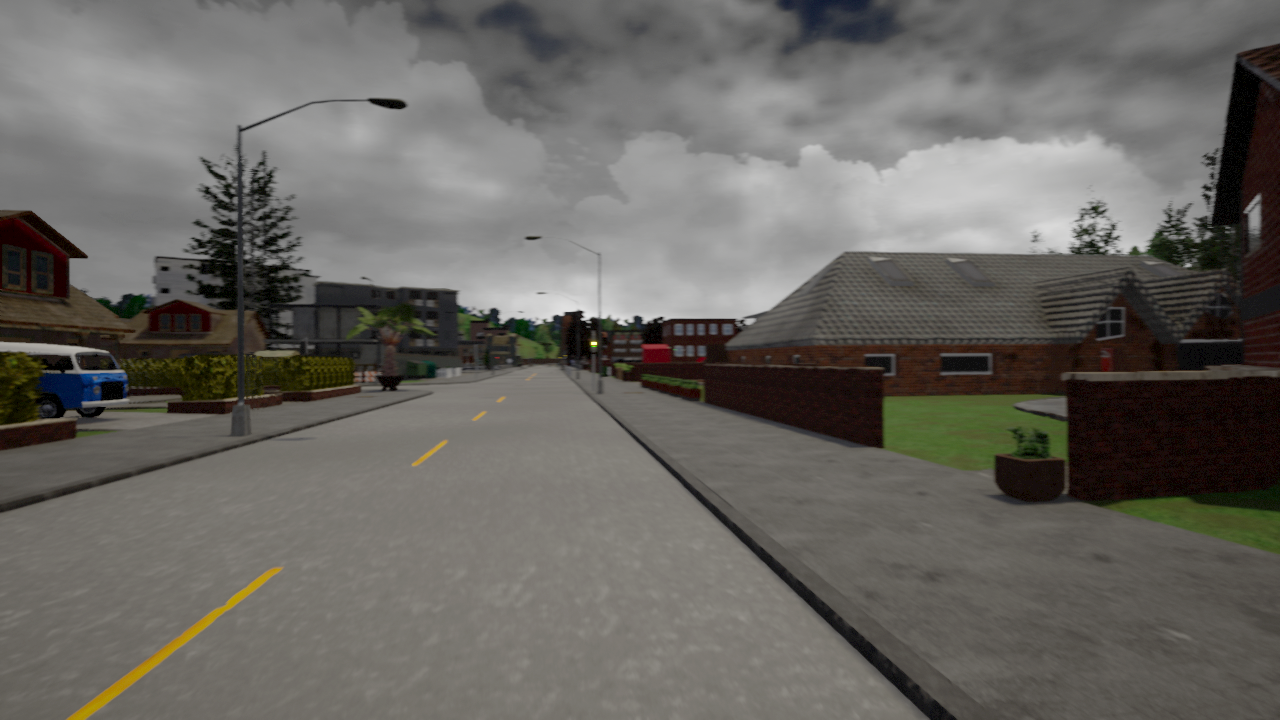yellow: (588, 334, 597, 352)
